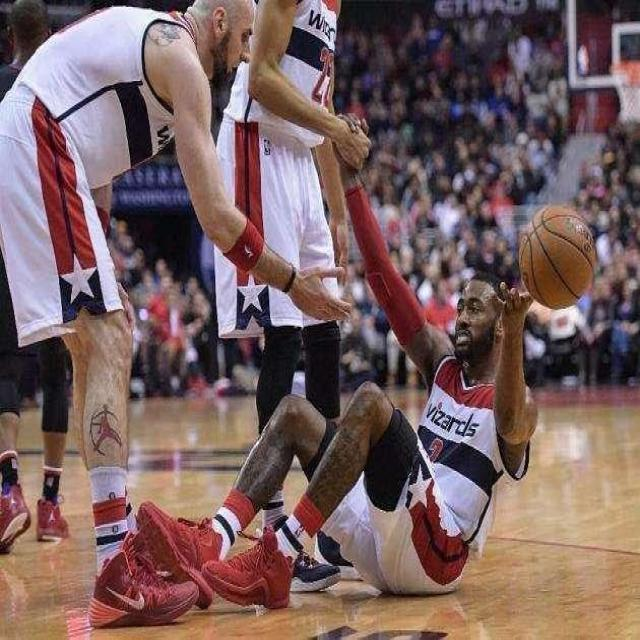10-: (0, 0, 639, 632)
down: (130, 98, 553, 622)
